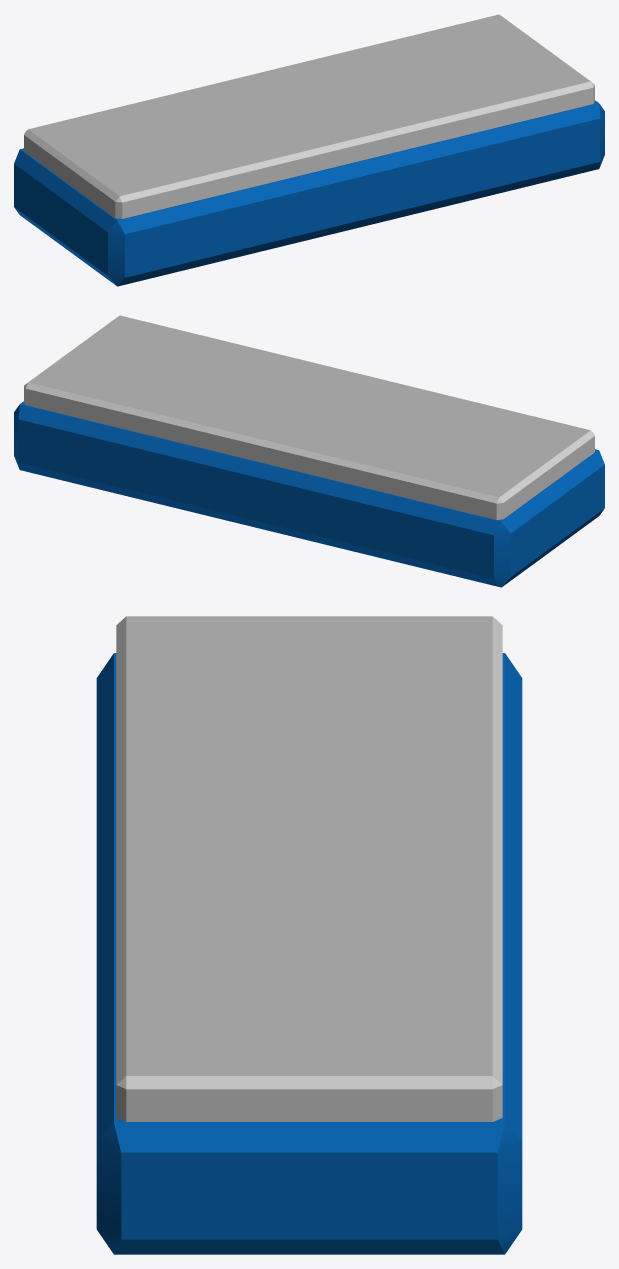
Rendered from eraser.FBX.
3 views of the same model, one above another, from view 1: azimuth 30°, elevation 25°; view 2: azimuth 150°, elevation 25°; view 3: azimuth 270°, elevation 25° (orthographic). The views are drawn at different scales.
Parts seen in each view (by area): view 1: EraserMesh; view 2: EraserMesh; view 3: EraserMesh.
Part boxes in pixels (<box>): EraserMesh: <box>14,14,604,286</box>; EraserMesh: <box>14,315,604,587</box>; EraserMesh: <box>96,616,522,1254</box>.
Bounding box in the file's own units: 46.65 × 17.31 × 7.78.
